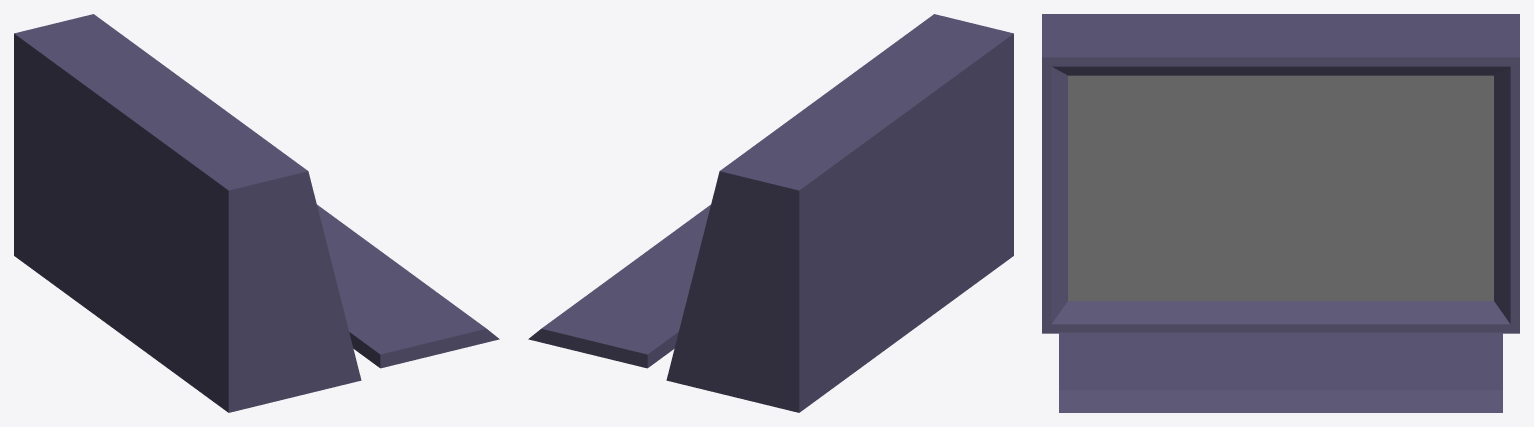
File: Camera.glb
The picture shows the model from 3 angles, left to right: view 1: azimuth 30°, elevation 25°; view 2: azimuth 150°, elevation 25°; view 3: azimuth 270°, elevation 25°; orthographic projection. The views are drawn at different scales.
Parts seen in each view (by area): view 1: Monitor; view 2: Monitor; view 3: Monitor.
Boxes of the visible parts, x1,y1,x2,y2 form: Monitor: (14, 14, 499, 412); Monitor: (528, 14, 1013, 412); Monitor: (1042, 14, 1519, 412).
Bounding box in the file's own units: 21 × 16 × 28.
